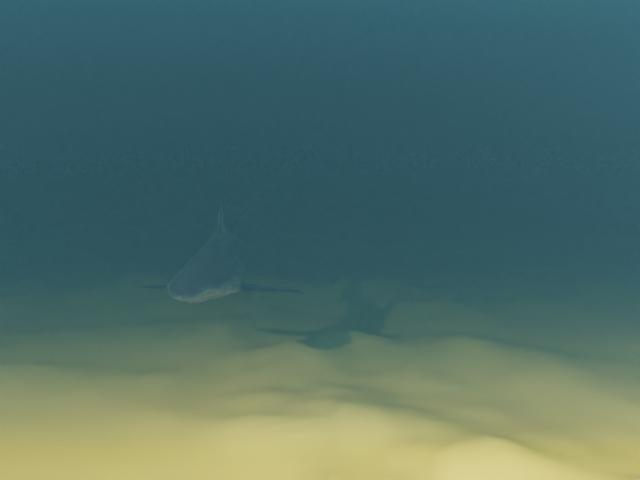Carribean Shark.001: (137, 192, 304, 302)
